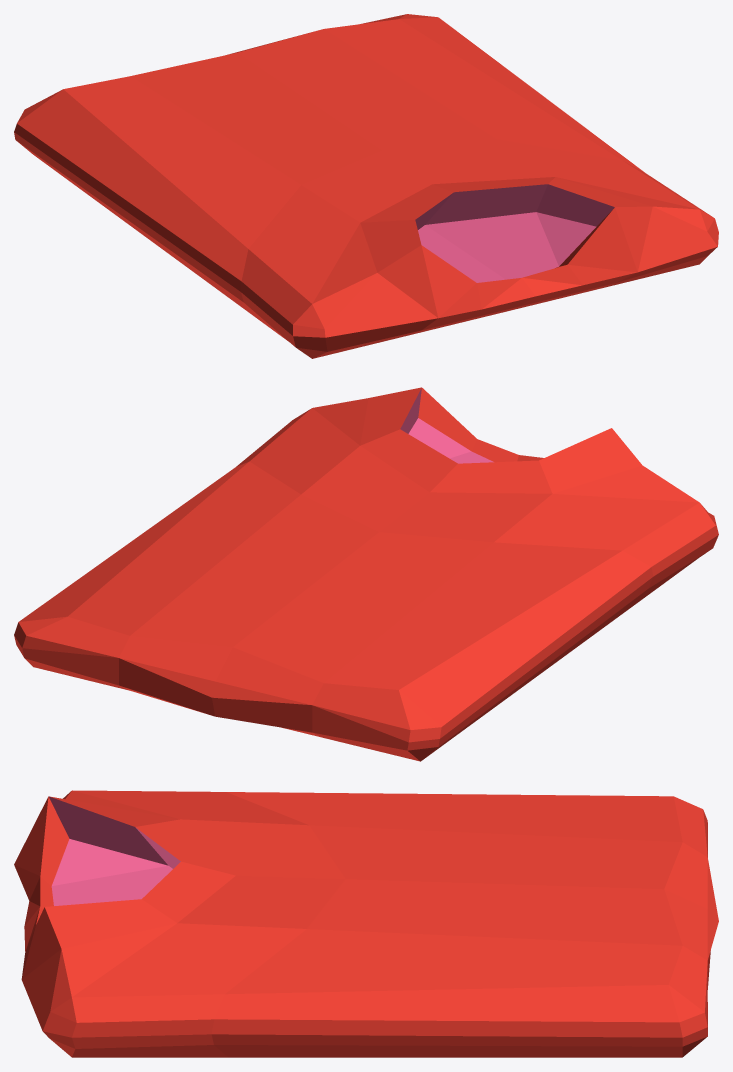
File: tshirt.glb
The picture shows the model from 3 angles, top to bottom: view 1: azimuth 30°, elevation 25°; view 2: azimuth 150°, elevation 25°; view 3: azimuth 270°, elevation 25°; orthographic projection. The views are drawn at different scales.
Visible parts, largest first — view 1: group1851623675; view 2: group1851623675; view 3: group1851623675.
Part boxes in pixels (x1,y1,x2,y2): group1851623675: [14, 14, 718, 358]; group1851623675: [14, 387, 718, 761]; group1851623675: [14, 790, 718, 1057].
Size of the model in its own units: 0.65 by 0.1424 by 0.8513.
